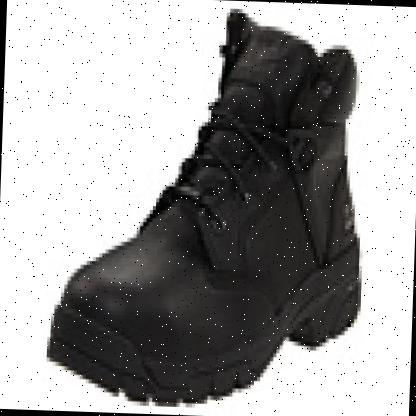bota: (39, 6, 376, 410)
